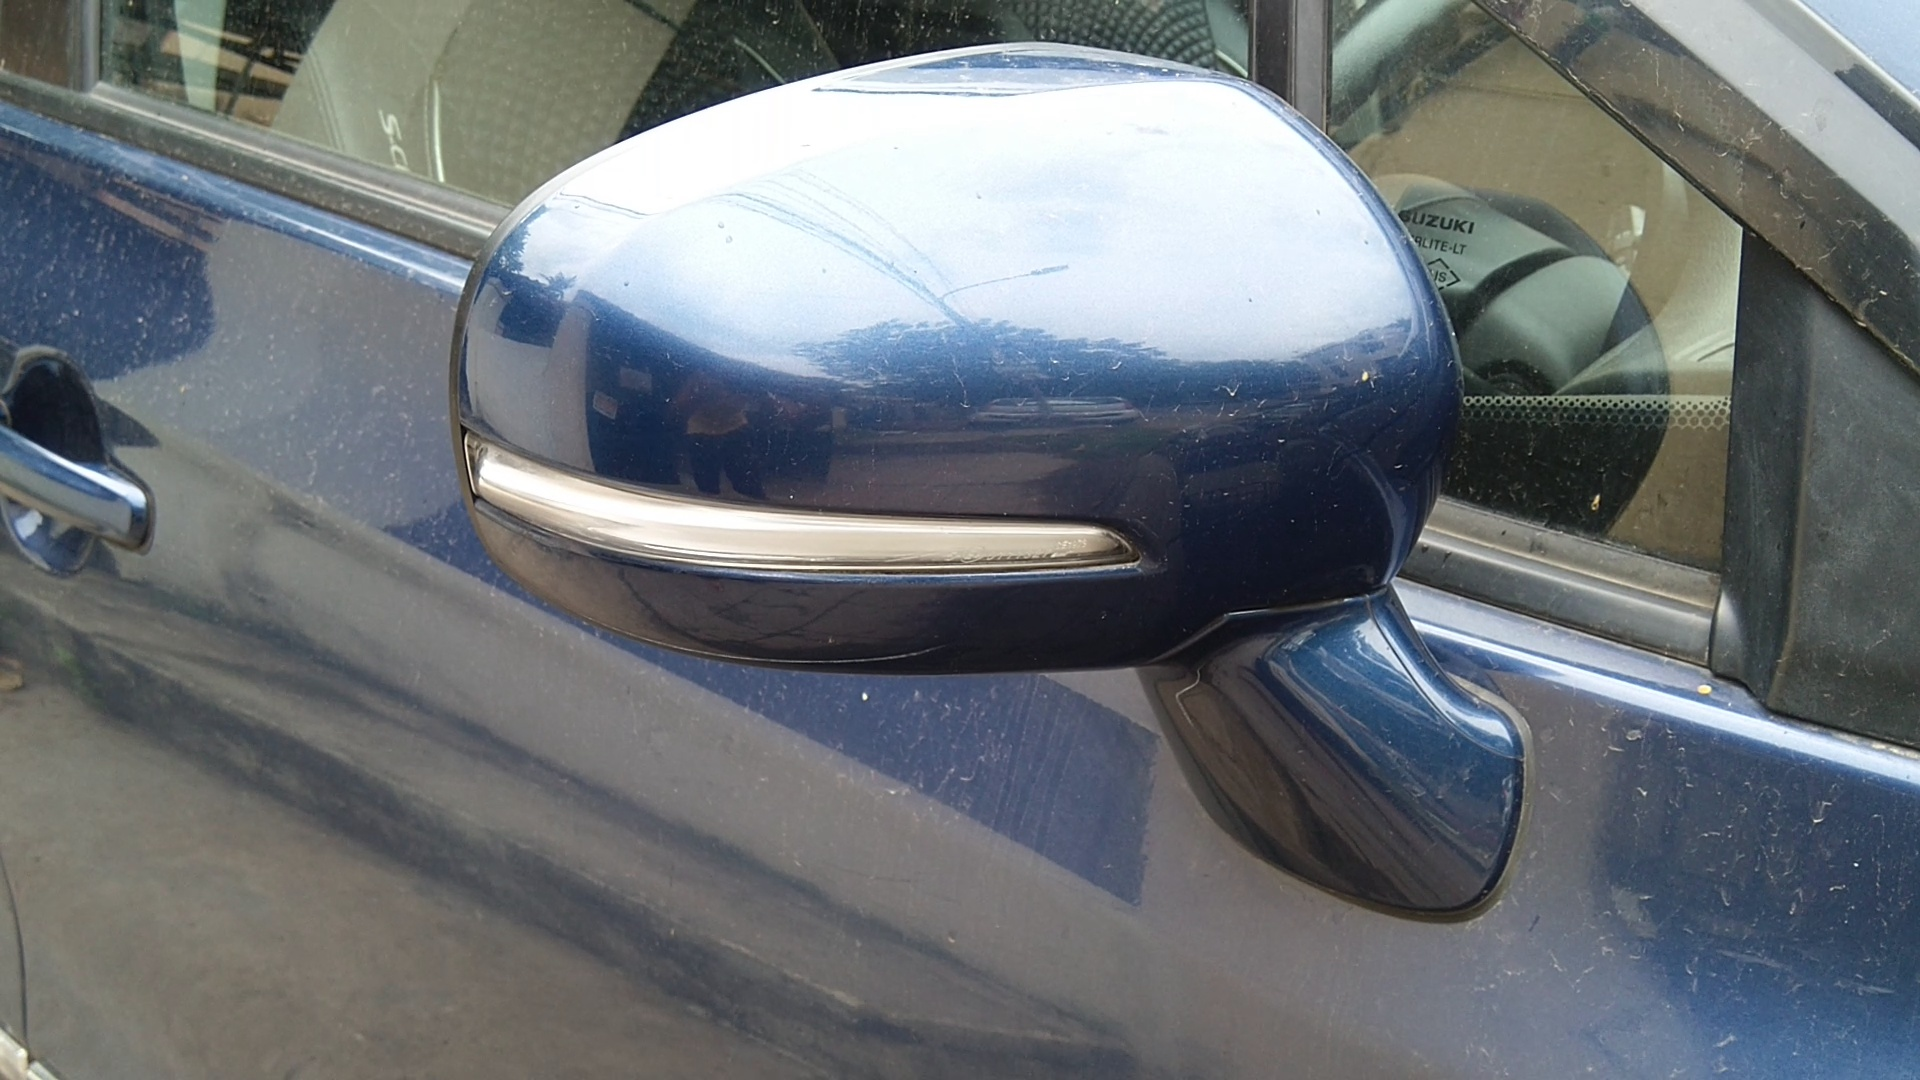ovr_mirror: (414, 11, 1600, 945)
